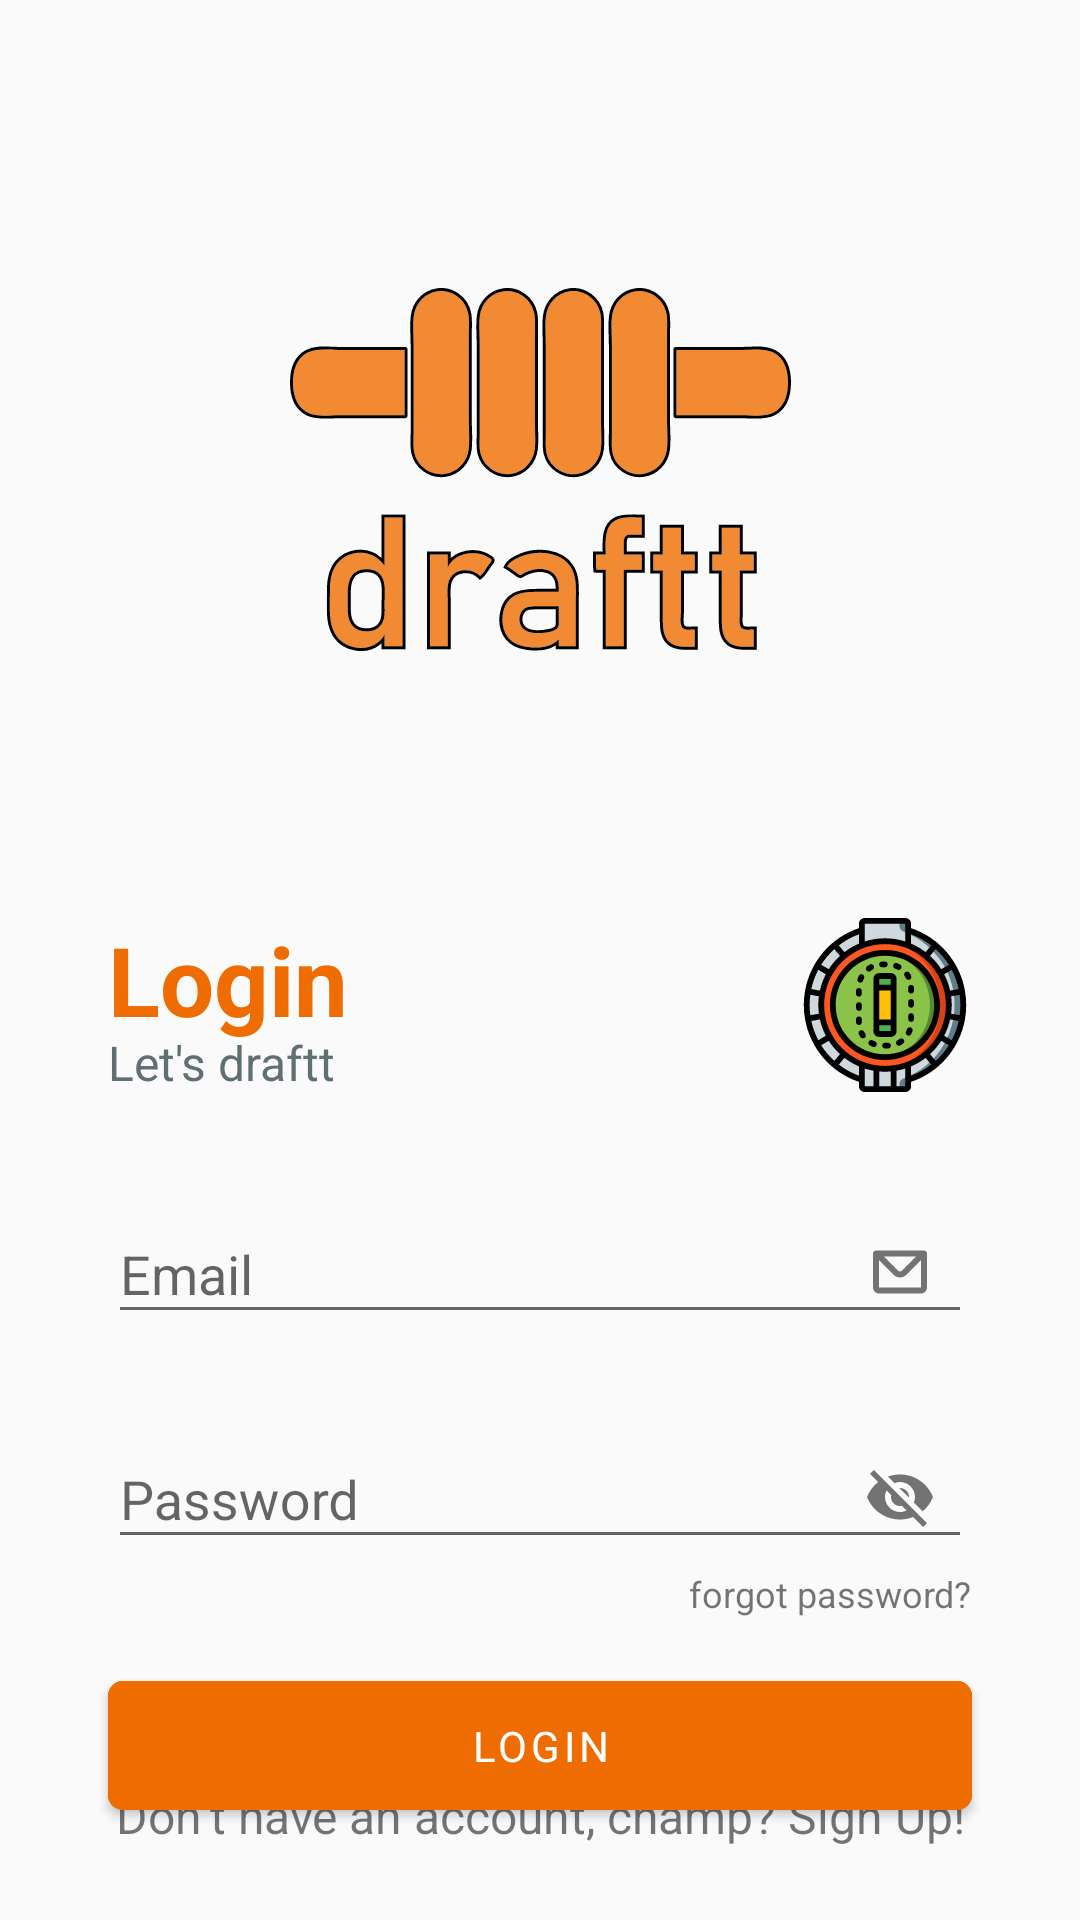

Icon bounding boxes for this 1080w x 1920h phone screenshot, format (x1, y1, x2, y2):
cricket ground: (803, 918, 967, 1092)
